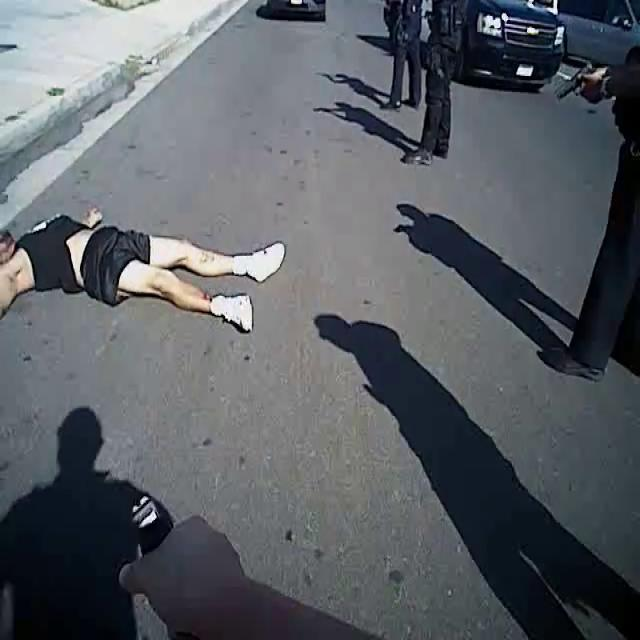gun: (105, 466, 223, 640), (553, 48, 599, 122)
